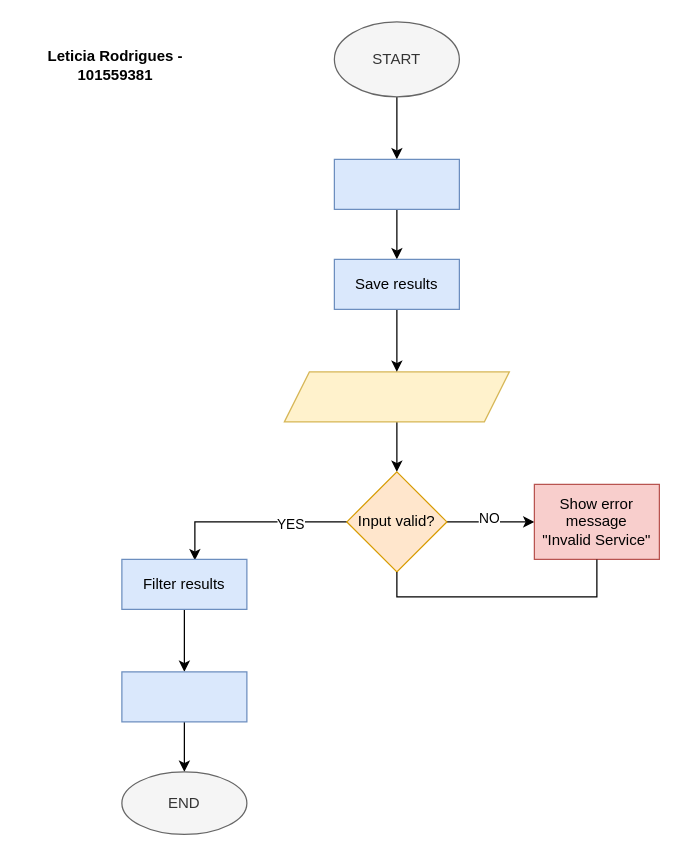
This 681x856 diagram has some shape labels left out. The shapes that lost their labels are listed below. From the top down, each one's centre as x and y in pixels, then its label:
the point at 396,183: Scan ports
the point at 396,396: User Input: Service Name (HTTP, SSH)
the point at 184,696: Display Matching Ports
